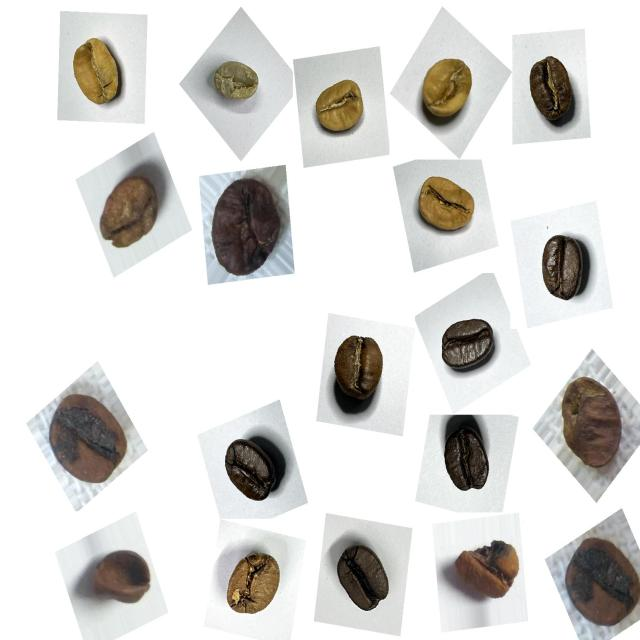bad: (196, 163, 290, 287), (40, 380, 136, 496), (560, 522, 640, 638), (550, 366, 632, 478), (92, 160, 172, 262), (445, 529, 525, 613), (86, 538, 160, 620)
dark: (212, 425, 288, 515), (329, 532, 402, 624), (530, 224, 600, 314), (433, 422, 504, 508), (434, 307, 504, 384)
green: (205, 50, 270, 115)
light: (409, 46, 484, 136), (60, 27, 132, 118), (407, 164, 483, 247), (307, 66, 377, 148)
medium: (318, 325, 396, 414), (214, 541, 291, 629), (517, 47, 585, 138)
